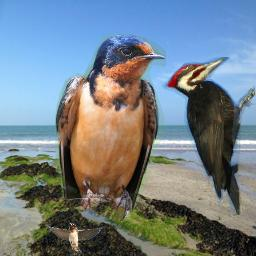Swallow: (55, 33, 166, 223), (45, 223, 103, 255)
Woodpecker: (162, 57, 255, 215)
